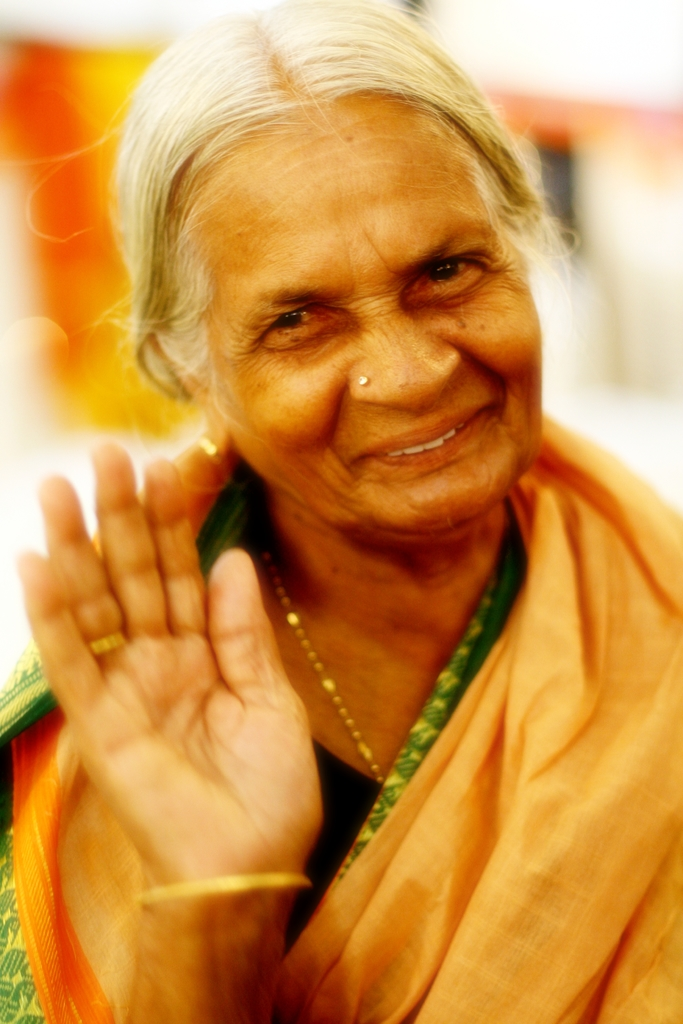face: (220, 44, 522, 618)
